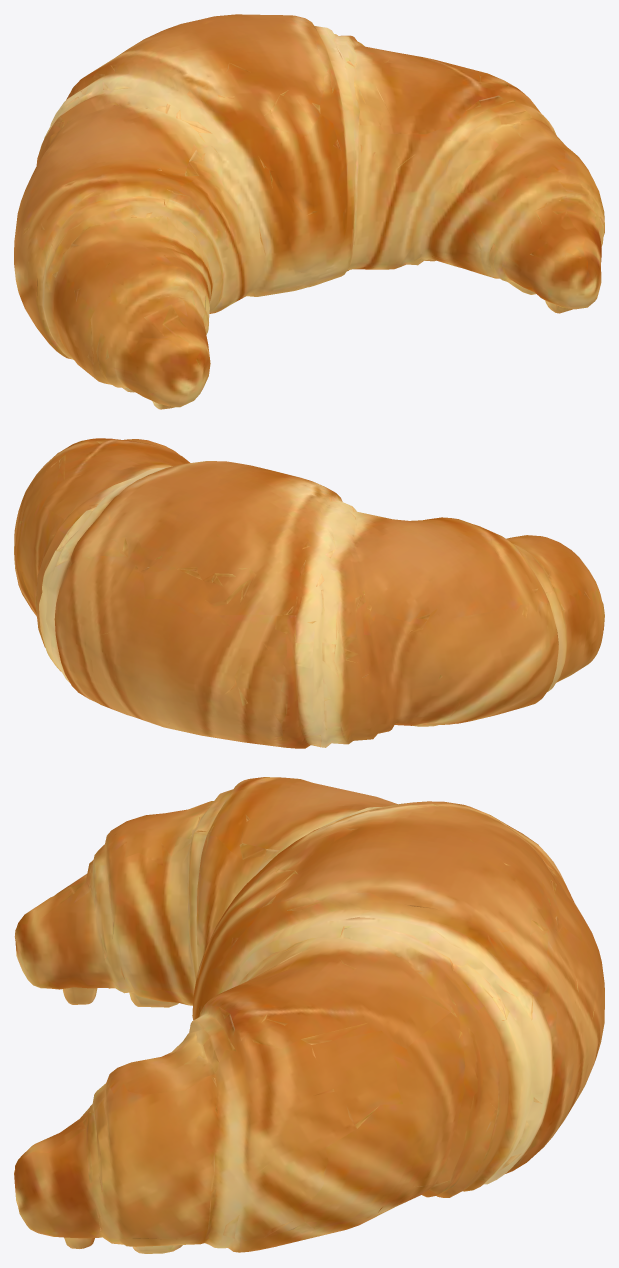
Rendered from golden-croissant.glb.
3 renders of one model, top to bottom at view 1: azimuth 30°, elevation 25°; view 2: azimuth 150°, elevation 25°; view 3: azimuth 270°, elevation 25°, orthographic. The views are drawn at different scales.
Visible parts, largest first — view 1: Mesh1.0; view 2: Mesh1.0; view 3: Mesh1.0.
Boxes of the visible parts, x1,y1,x2,y2 form: Mesh1.0: (14, 14, 604, 409); Mesh1.0: (14, 438, 604, 748); Mesh1.0: (14, 777, 604, 1253).
Bounding box in the file's own units: 1.91 × 0.7935 × 1.48.
Materials: 1 (1 with a texture image).
